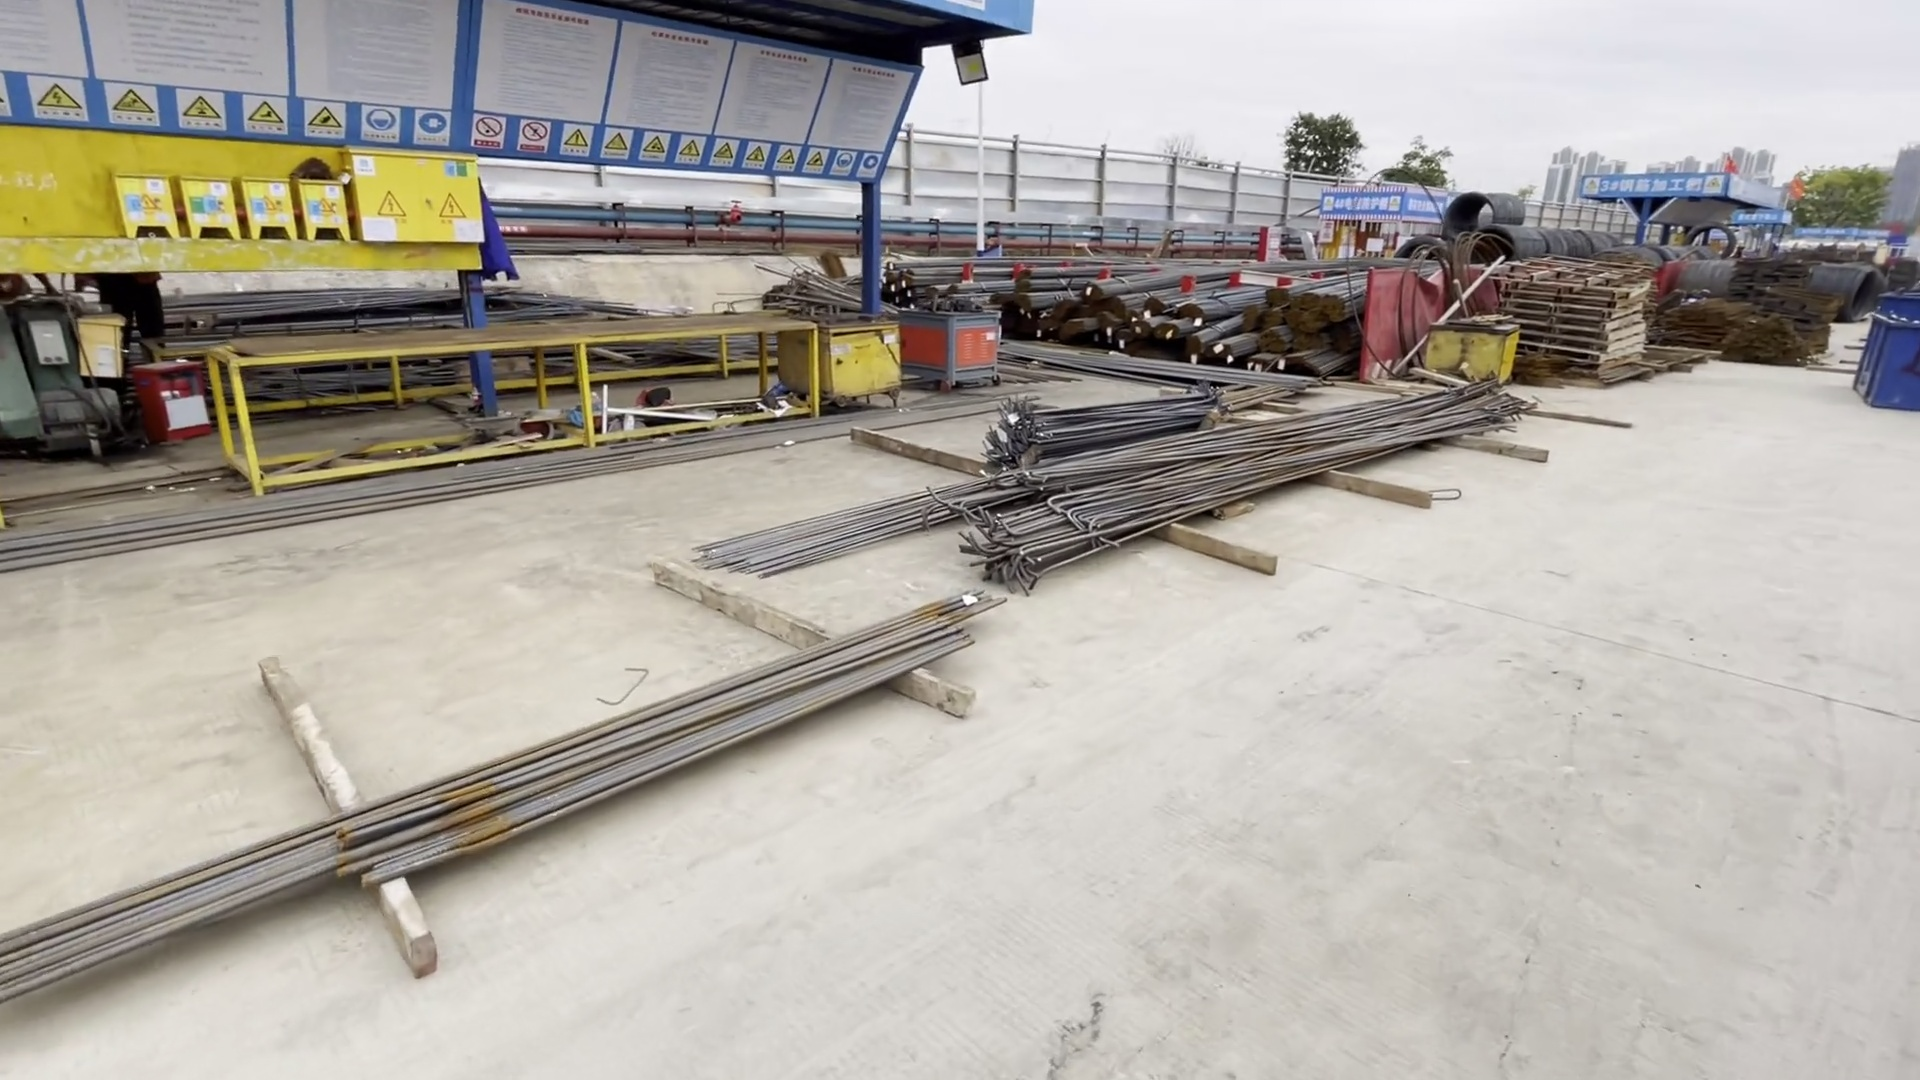ebox: (62, 142, 493, 257)
hopper: (1854, 303, 1920, 419)
rebar: (1, 371, 1543, 1021), (874, 256, 1387, 405)
slogan: (4, 1, 920, 178)
